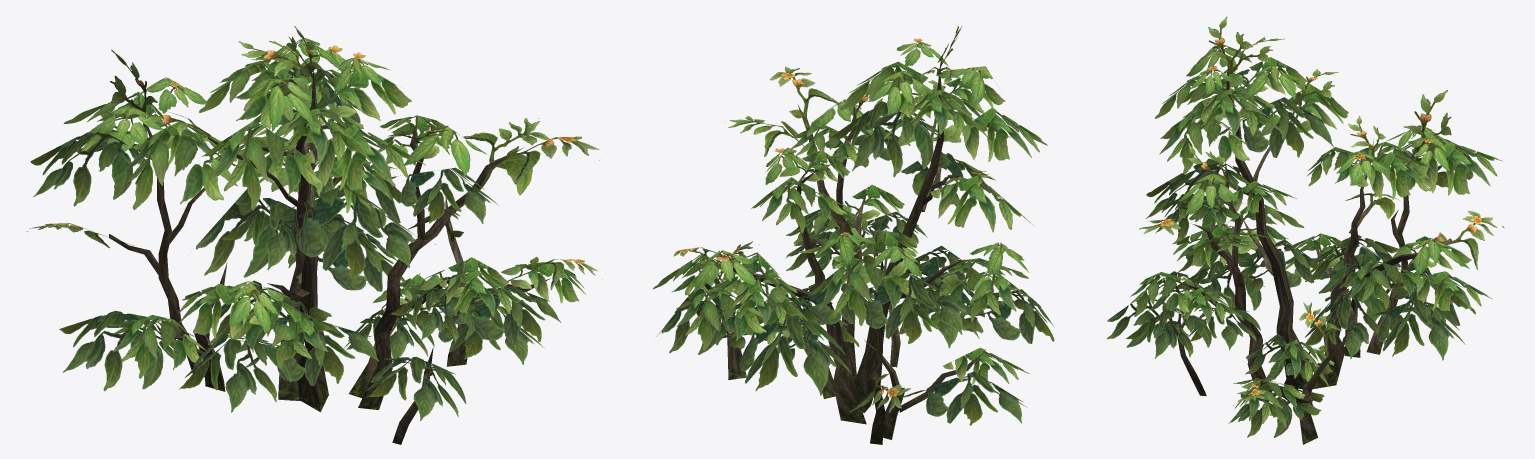
File: S_Tree_Green029.FBX
The picture shows the model from 3 angles, left to right: view 1: azimuth 30°, elevation 25°; view 2: azimuth 150°, elevation 25°; view 3: azimuth 270°, elevation 25°; orthographic projection. The views are drawn at different scales.
Parts seen in each view (by area): view 1: S_Tree_Green029; view 2: S_Tree_Green029; view 3: S_Tree_Green029.
Boxes of the visible parts, <box> form: S_Tree_Green029: <box>26,26,602,444</box>; S_Tree_Green029: <box>653,26,1054,444</box>; S_Tree_Green029: <box>1107,16,1504,444</box>.
Size of the model in its own units: 384 by 323 by 364.
